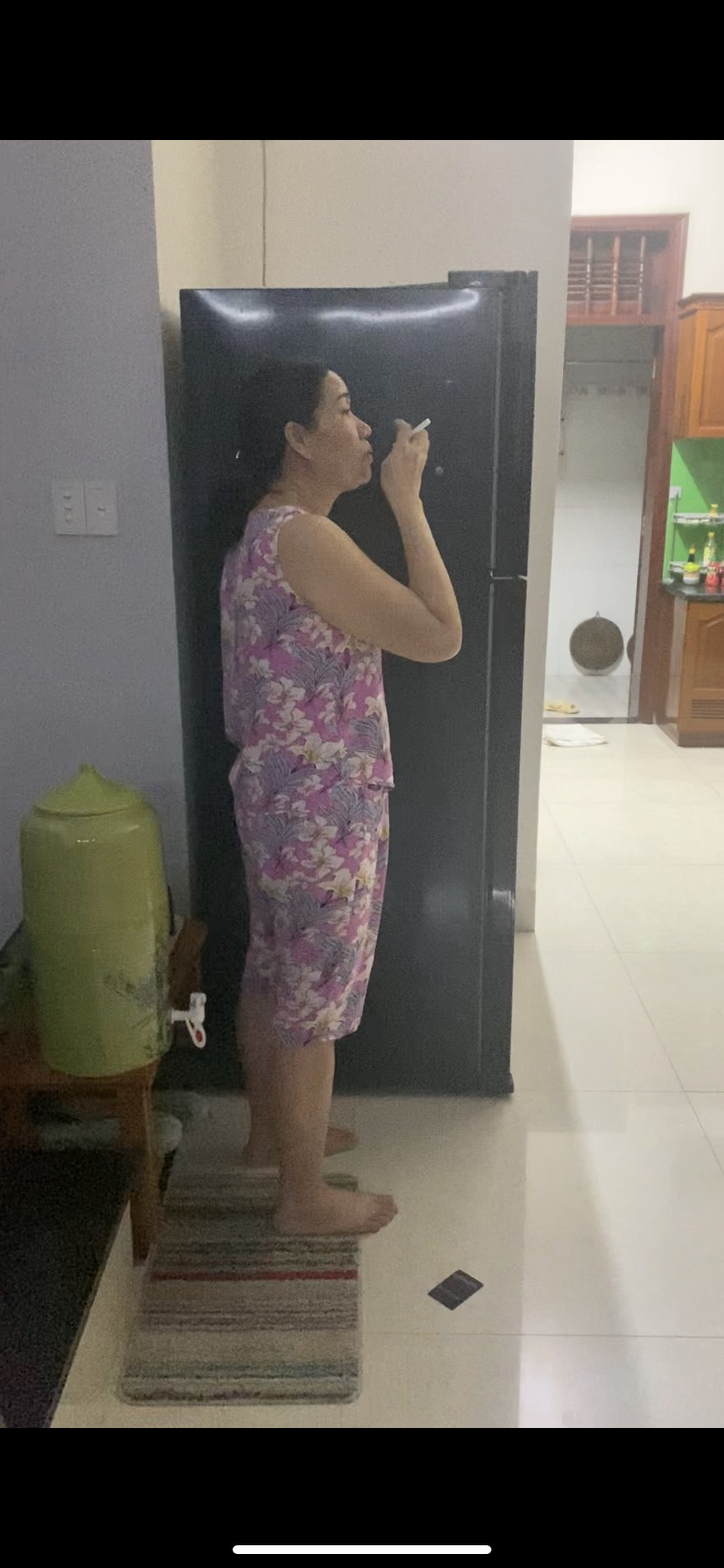cigarette: (411, 413, 433, 435)
person: (182, 296, 466, 1320)
